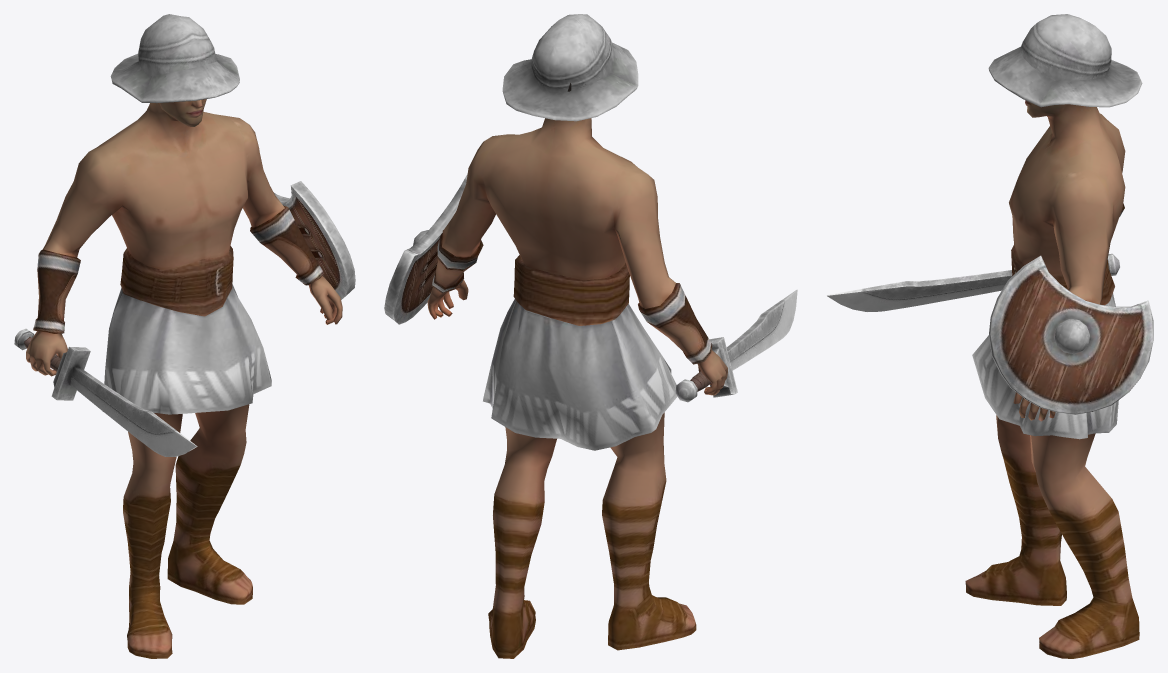
File: 108-murmillo.glb
3 renders of one model, left to right at view 1: azimuth 30°, elevation 25°; view 2: azimuth 150°, elevation 25°; view 3: azimuth 270°, elevation 25°, orthographic. The views are drawn at different scales.
Size of the model in its own units: 1.12 by 2.11 by 1.03.
Materials: 4 (4 with a texture image).
